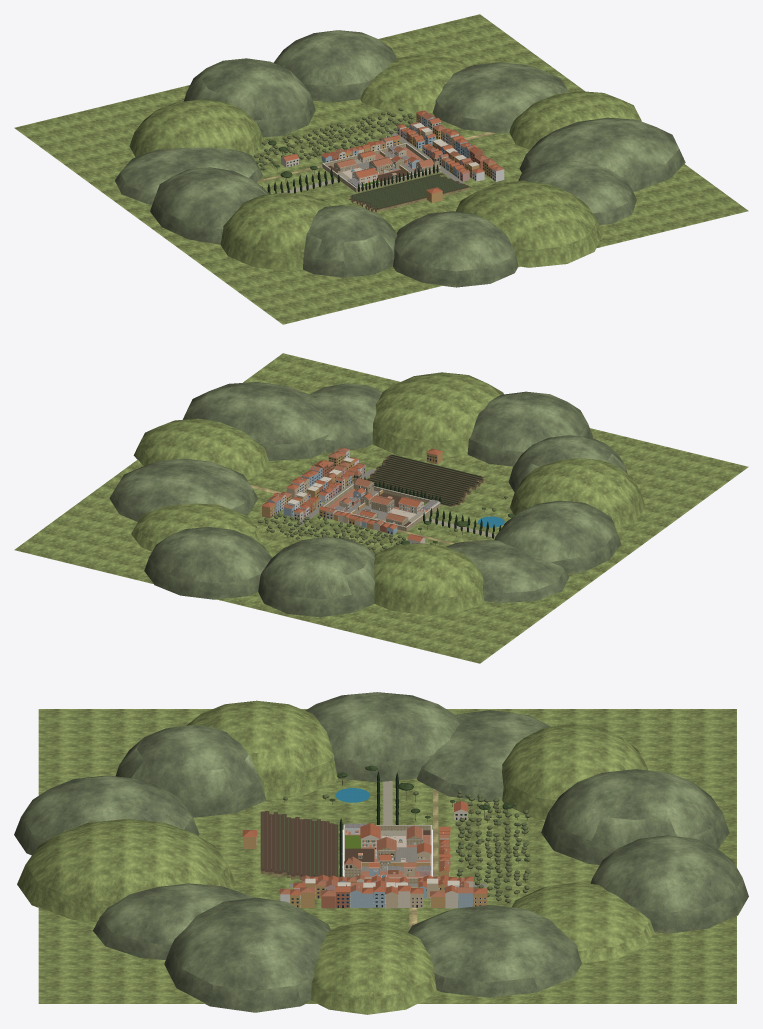
Rendered from marlow-estate-structure.glb.
3 renders of one model, top to bottom at view 1: azimuth 30°, elevation 25°; view 2: azimuth 150°, elevation 25°; view 3: azimuth 270°, elevation 25°, orthographic. The views are drawn at different scales.
Visible parts, largest first — view 1: backdrop.hills, backdrop.ground, backdrop.houses, backdrop.trees, backdrop.vines, dressing.roofs; view 2: backdrop.hills, backdrop.ground, backdrop.houses, backdrop.vines, backdrop.trees, dressing.roofs; view 3: backdrop.hills, backdrop.ground, backdrop.houses, backdrop.trees, backdrop.vines, dressing.roofs.
Part boxes in pixels (x1,y1,x2,y2): backdrop.hills: (115,30,685,287); backdrop.ground: (14,14,748,324); backdrop.houses: (281,110,504,202); backdrop.trees: (253,108,438,201); backdrop.vines: (351,173,467,208); dressing.roofs: (334,146,435,178); backdrop.hills: (109,372,645,617); backdrop.ground: (14,353,748,663); backdrop.houses: (262,447,442,543); backdrop.vines: (367,454,482,505); backdrop.trees: (254,477,514,554); dressing.roofs: (339,478,423,522); backdrop.hills: (14,692,748,1014); backdrop.ground: (38,709,736,1003); backdrop.houses: (242,801,487,908); backdrop.trees: (283,765,530,903); backdrop.vines: (262,810,336,876); dressing.roofs: (344,823,431,869).
Bounding box in the file's own units: 538 × 47.89 × 547.
52 materials, 52 textured.
